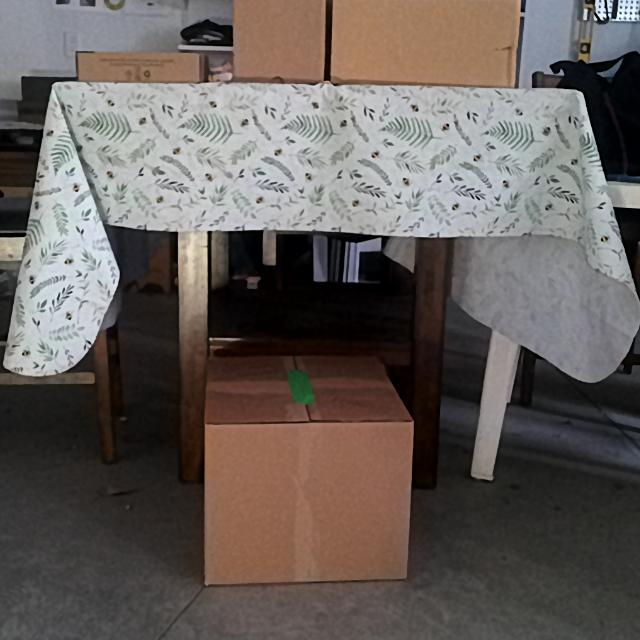box: (204, 422, 409, 579), (331, 0, 519, 85), (232, 0, 325, 80), (76, 54, 200, 82)
